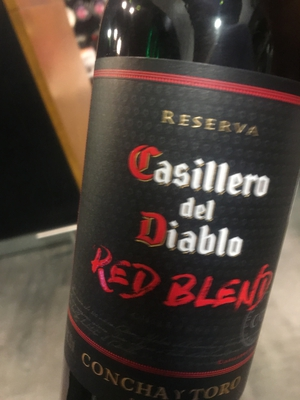casillero del diablo red blend: (70, 6, 300, 396)
